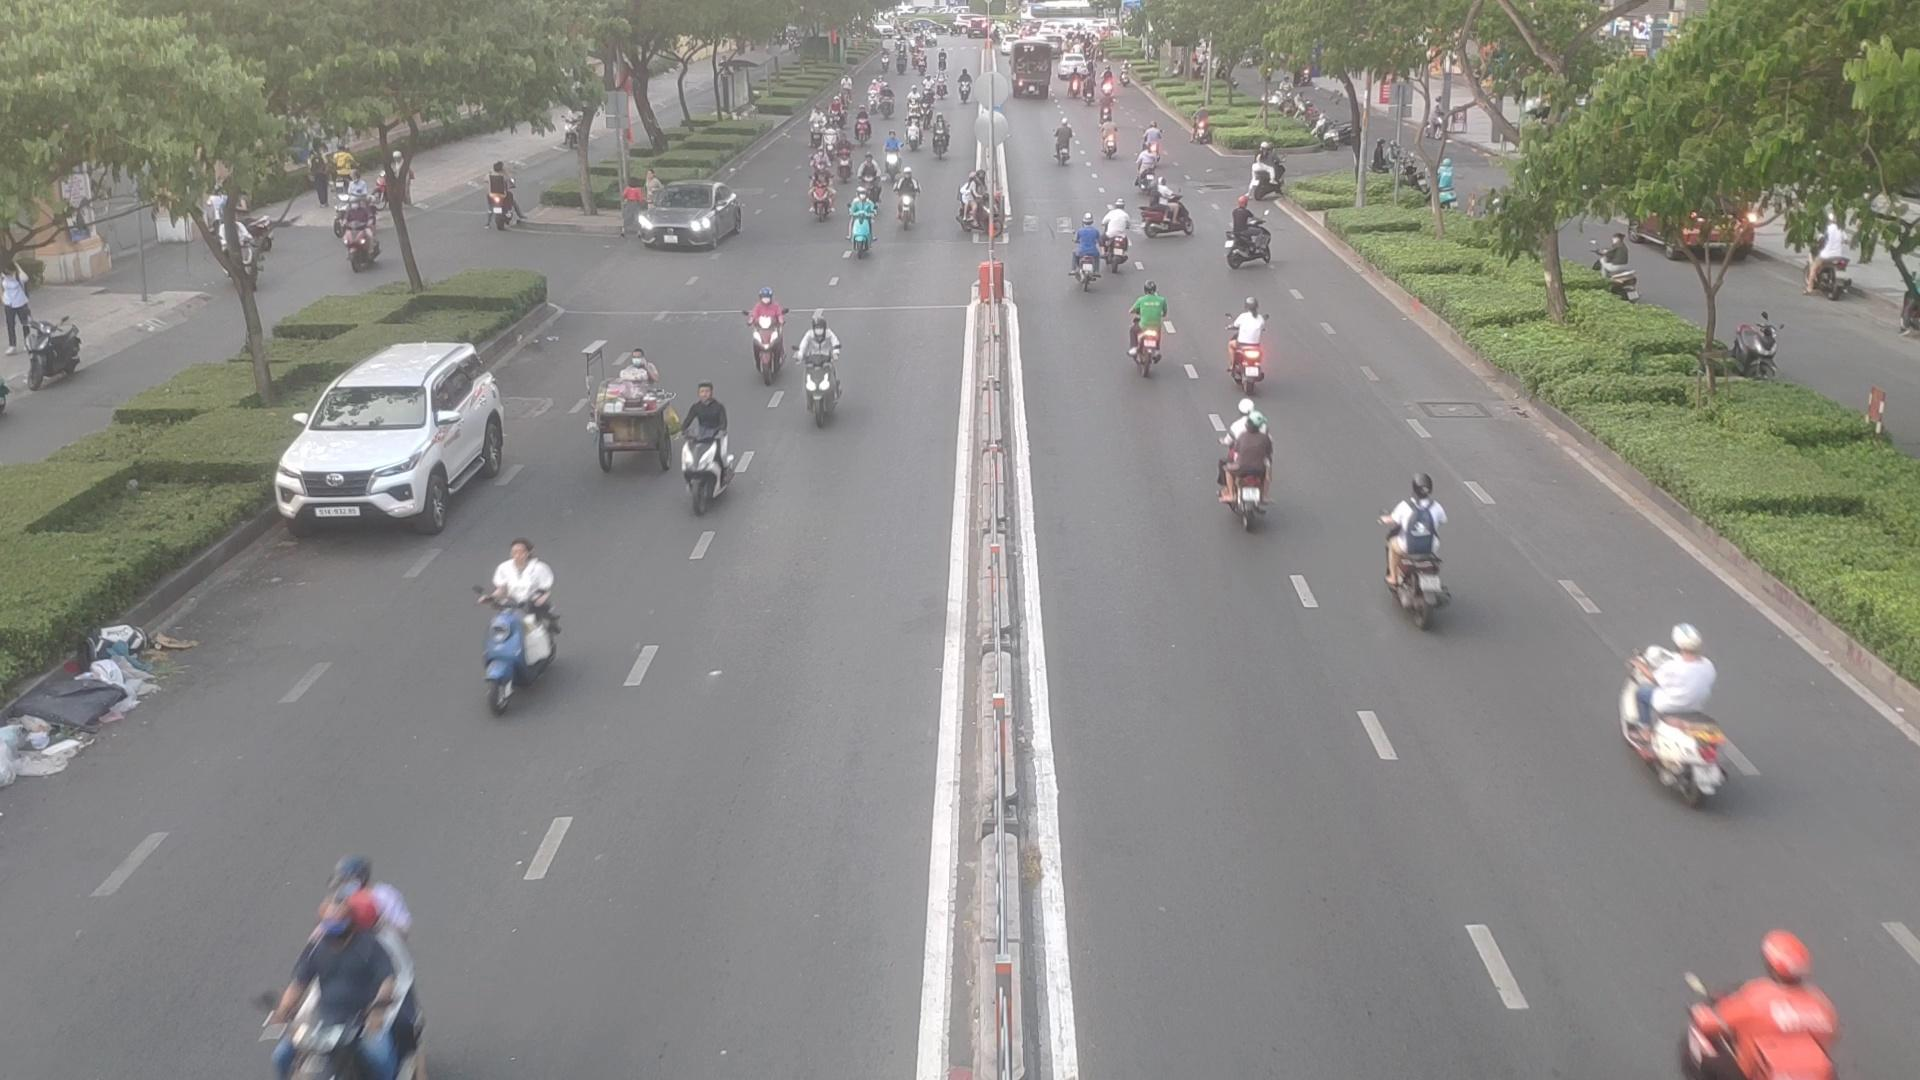car: (278, 339, 521, 527), (622, 187, 752, 253)
motorbike: (244, 860, 414, 1077), (1658, 920, 1851, 1077), (1615, 622, 1743, 804), (467, 538, 564, 705), (1385, 487, 1462, 622), (665, 380, 742, 514), (1215, 410, 1280, 531), (796, 315, 858, 427), (740, 290, 794, 381), (1127, 284, 1182, 371), (963, 171, 1021, 244), (1225, 305, 1273, 392), (1069, 210, 1120, 291), (1224, 207, 1276, 269), (1143, 190, 1193, 243), (849, 181, 880, 262), (808, 164, 836, 220), (899, 161, 919, 233), (1095, 123, 1120, 158)
